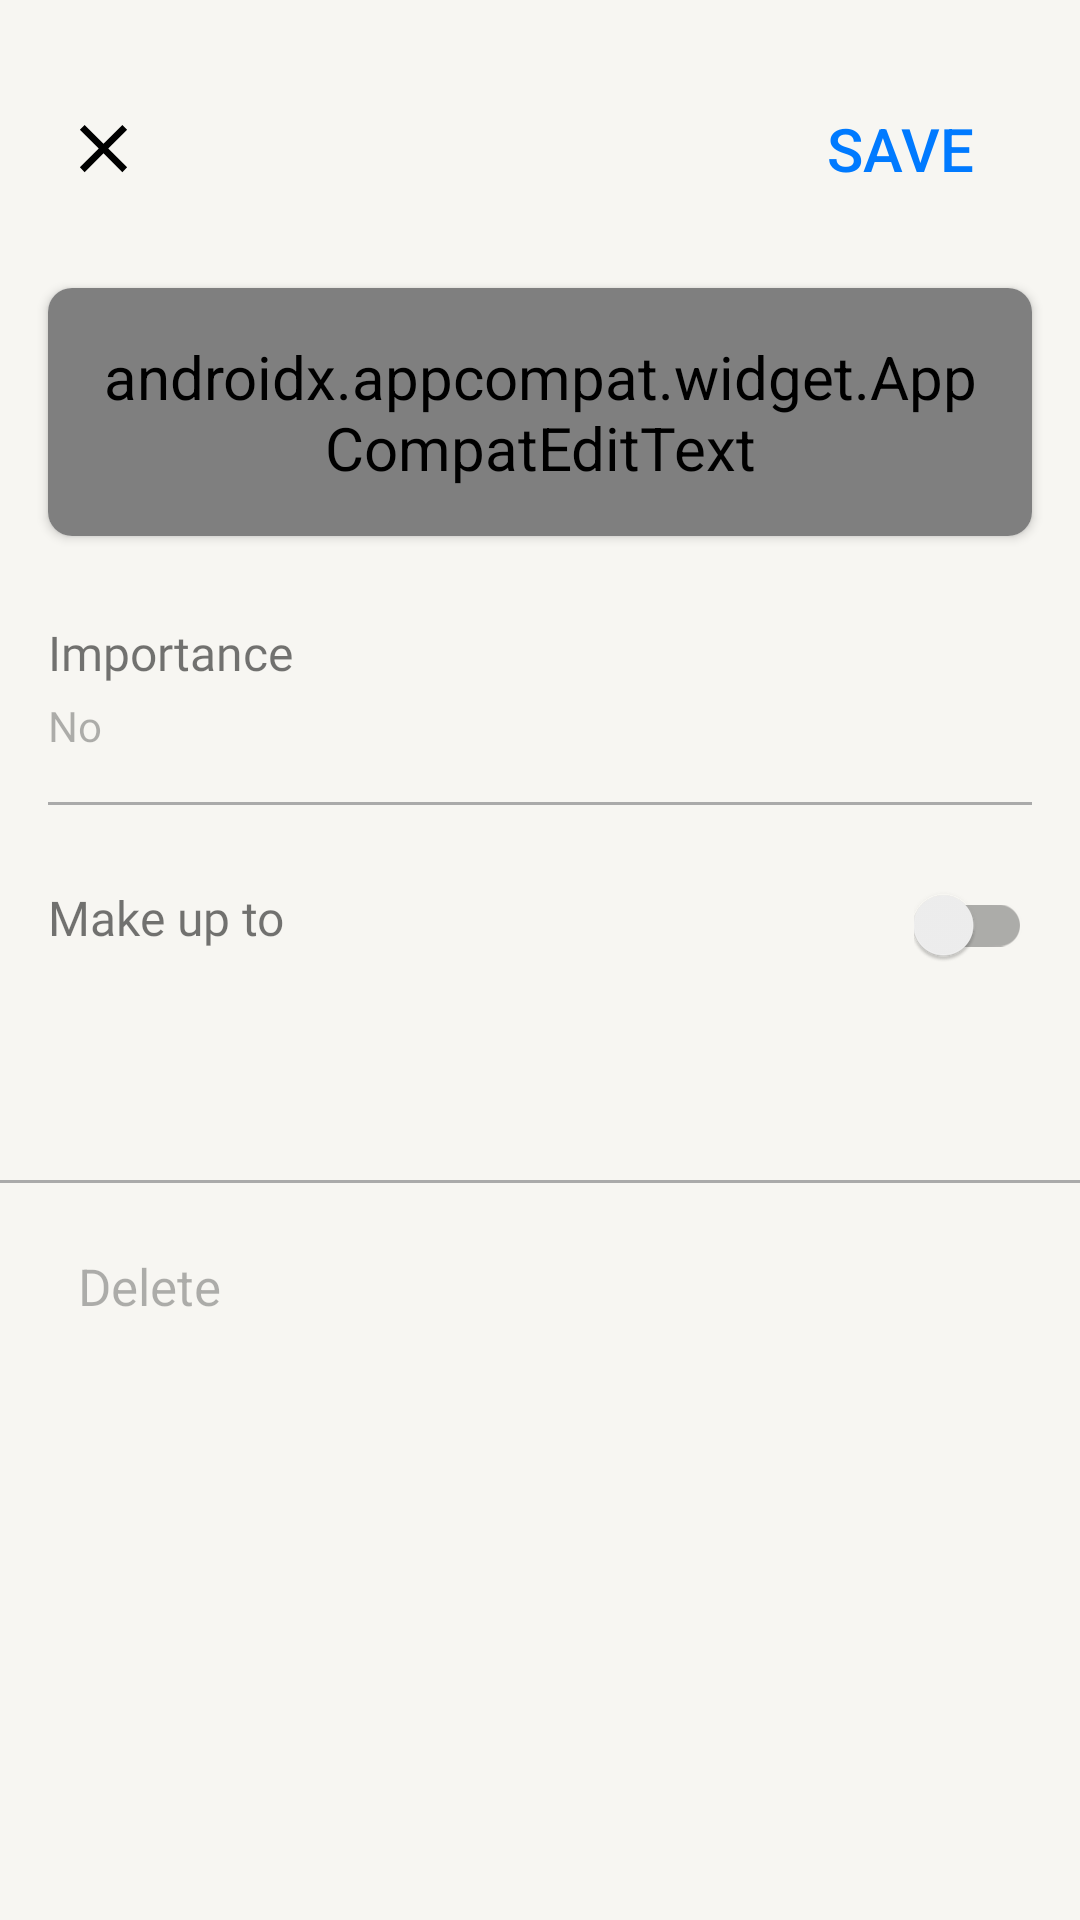

Named icons in this screenshot (1080 × 1920) and their centers, point (x, y):
close: point (103, 148)
